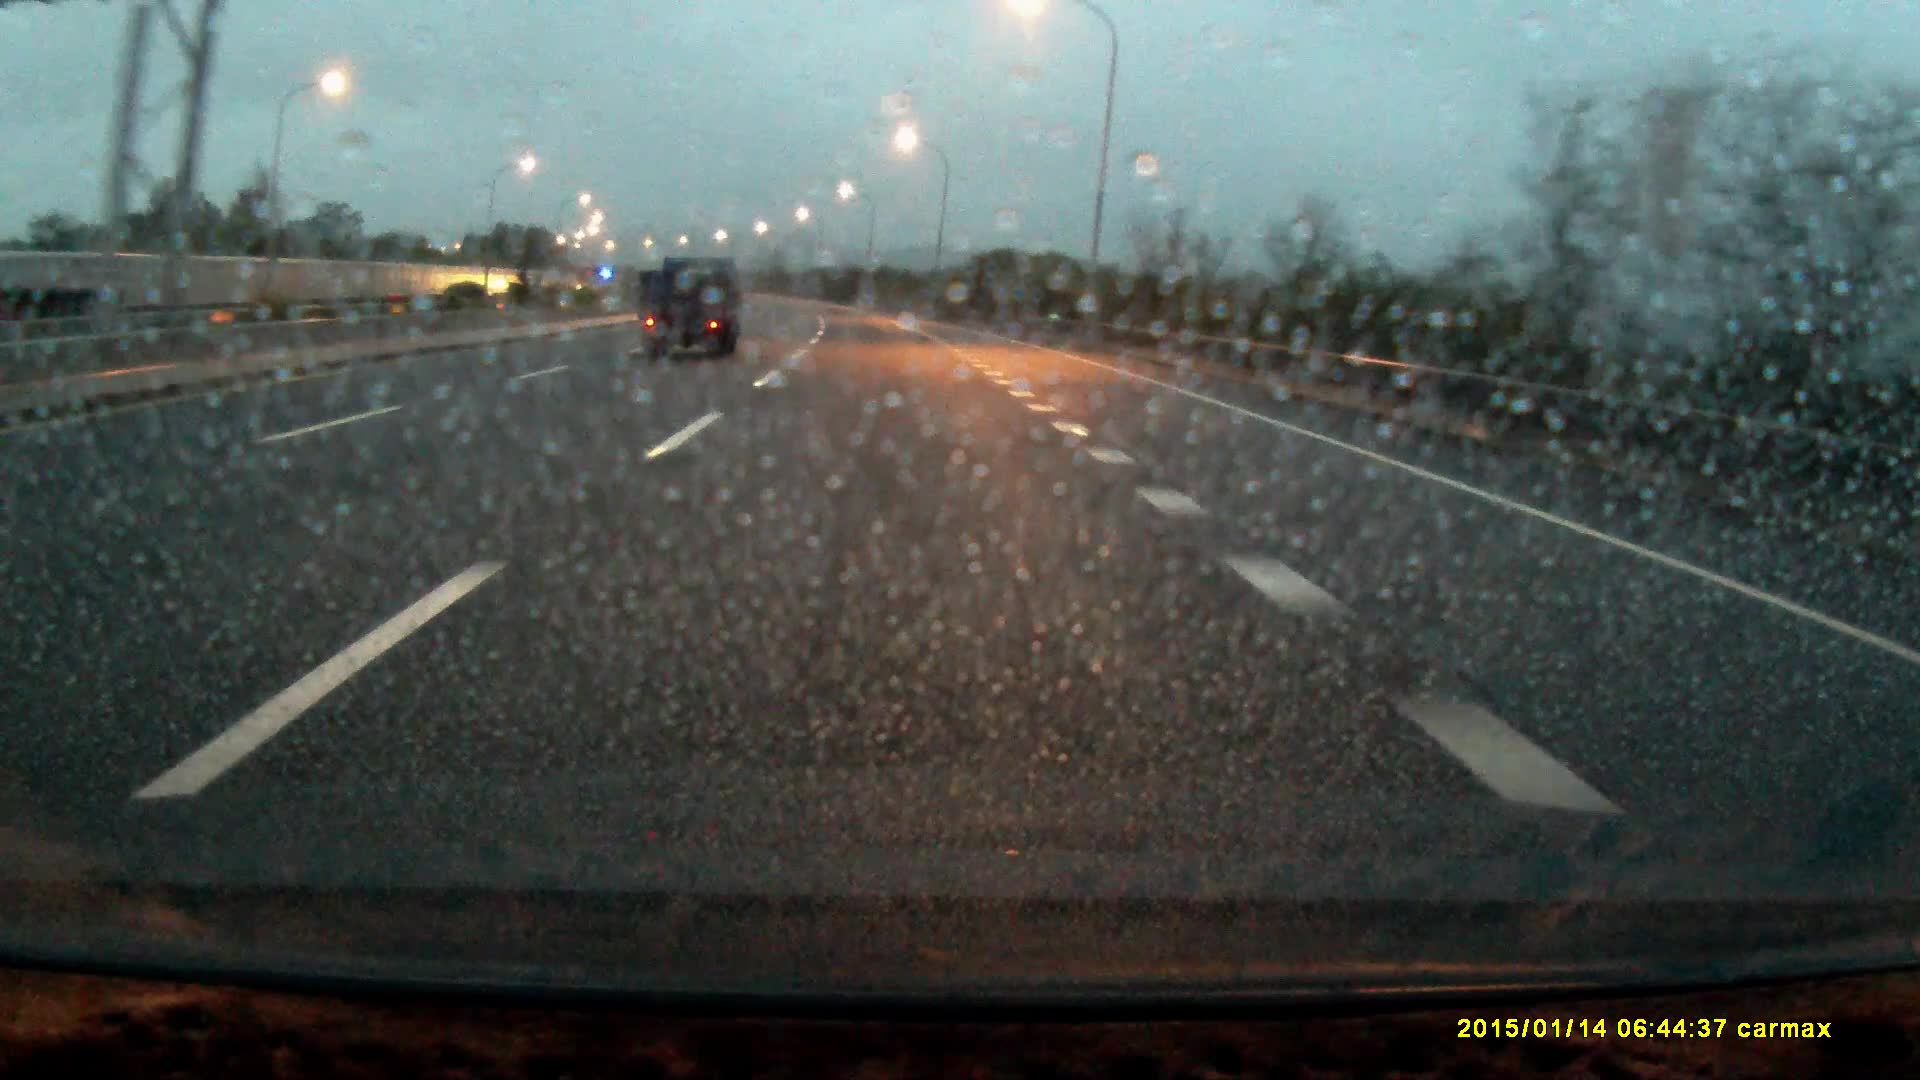vehicle: (640, 255, 744, 367), (1, 282, 123, 323)
